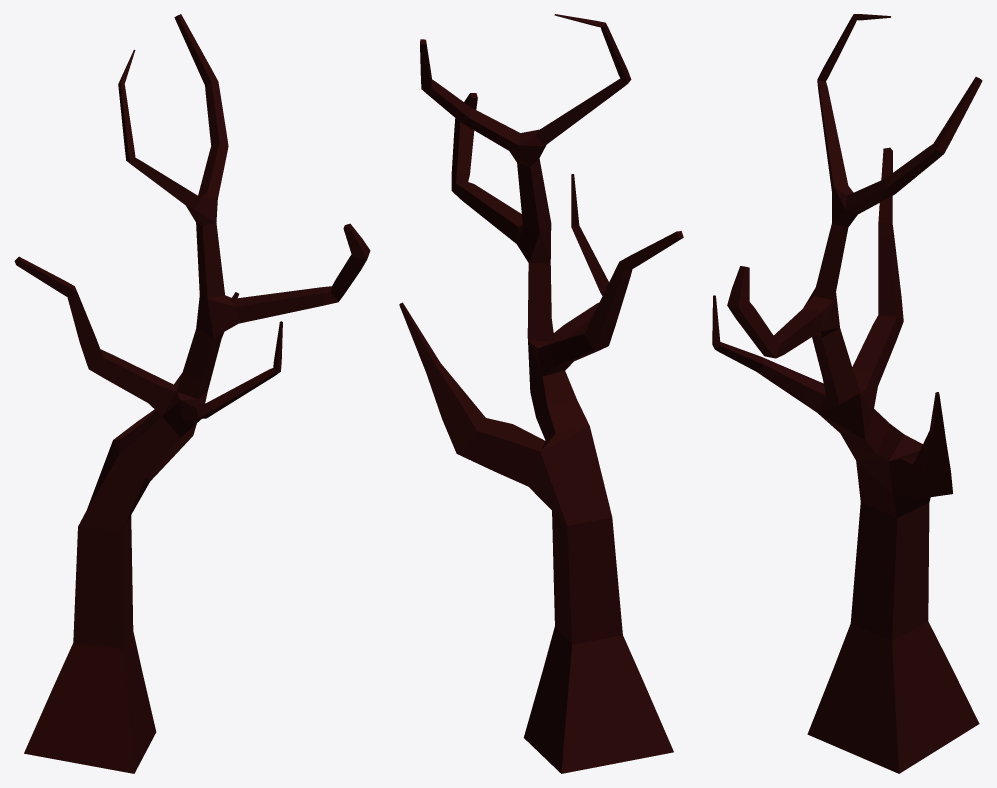
File: Tree3.fbx
The picture shows the model from 3 angles, left to right: view 1: azimuth 30°, elevation 25°; view 2: azimuth 150°, elevation 25°; view 3: azimuth 270°, elevation 25°; orthographic projection. The views are drawn at different scales.
Visible parts, largest first — view 1: Cube; view 2: Cube; view 3: Cube.
Boxes of the visible parts, x1,y1,x2,y2 form: Cube: (14, 14, 370, 773); Cube: (399, 14, 683, 773); Cube: (712, 14, 982, 773).
Size of the model in its own units: 522 by 1209 by 398.
